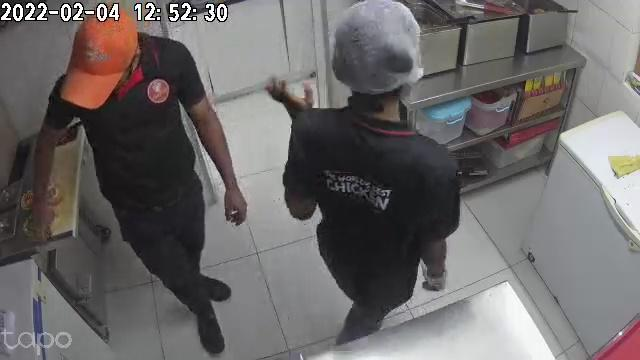no_gloves: (225, 169, 247, 225)
